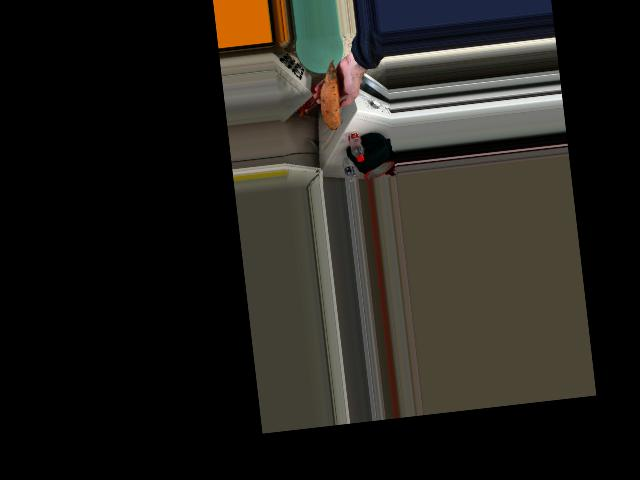sweet_potato: (320, 63, 345, 125)
